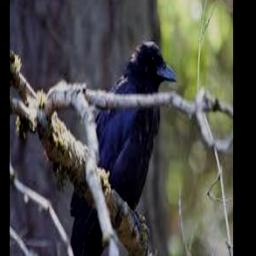Crow: (60, 40, 176, 256)
